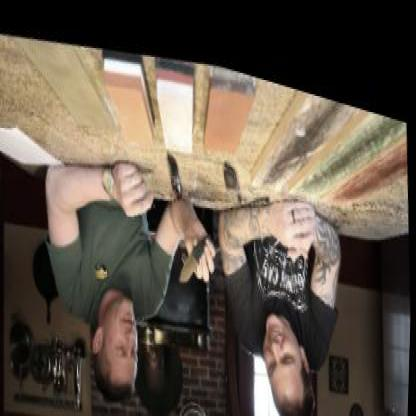knife: (172, 210, 219, 286)
